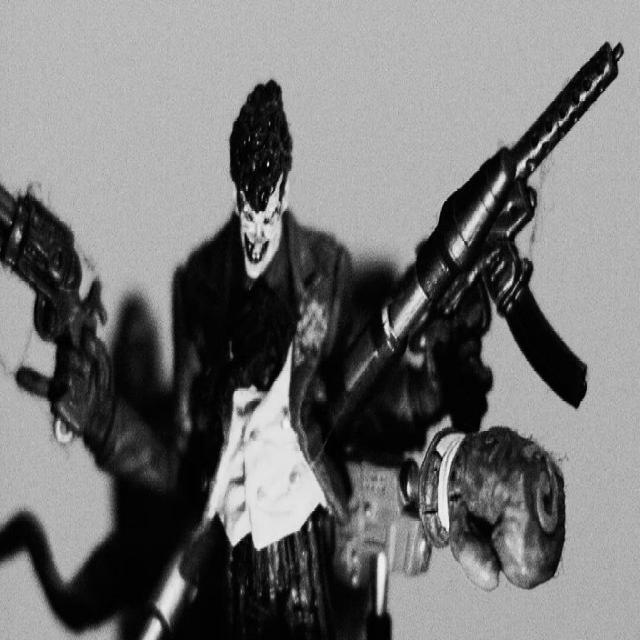weapon: (208, 41, 626, 638), (0, 180, 108, 446)
